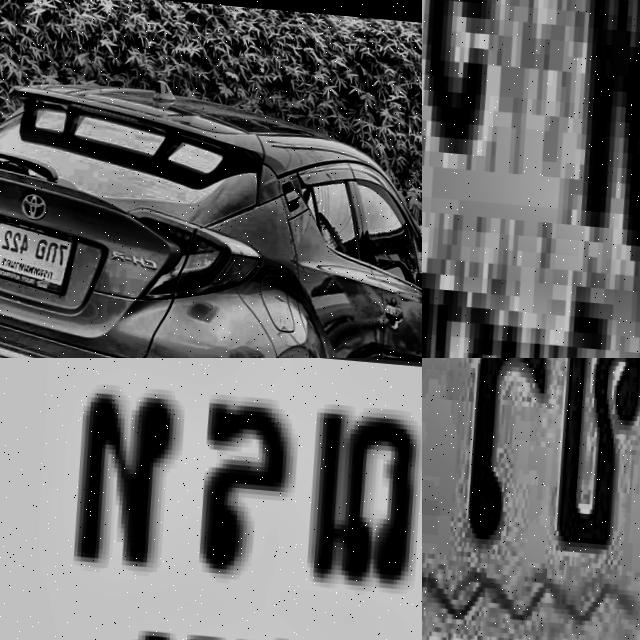license-plate: (0, 358, 422, 640), (422, 0, 640, 358), (422, 358, 640, 640), (0, 216, 76, 291)
